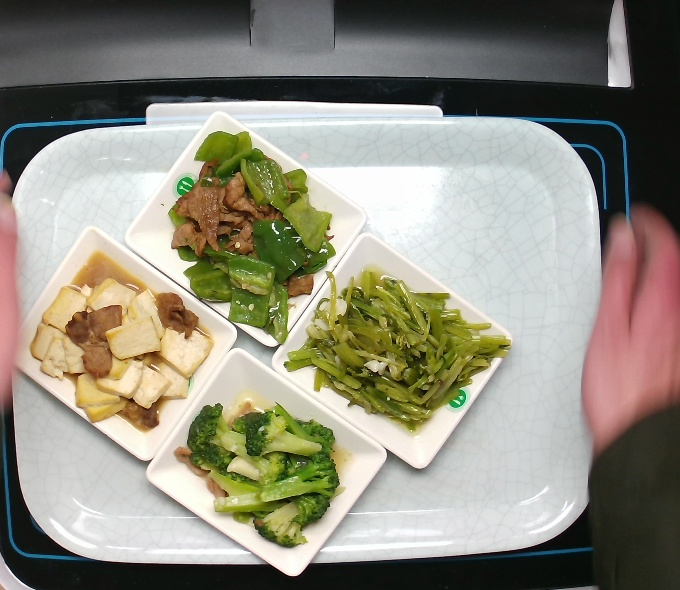wcq-DouFuRouPian: (22, 270, 211, 436)
wcq-QinCai: (279, 261, 513, 441)
wcq-QingJiaoChaoRou: (157, 124, 335, 352)
wcq-XiLanHua: (183, 380, 362, 556)
